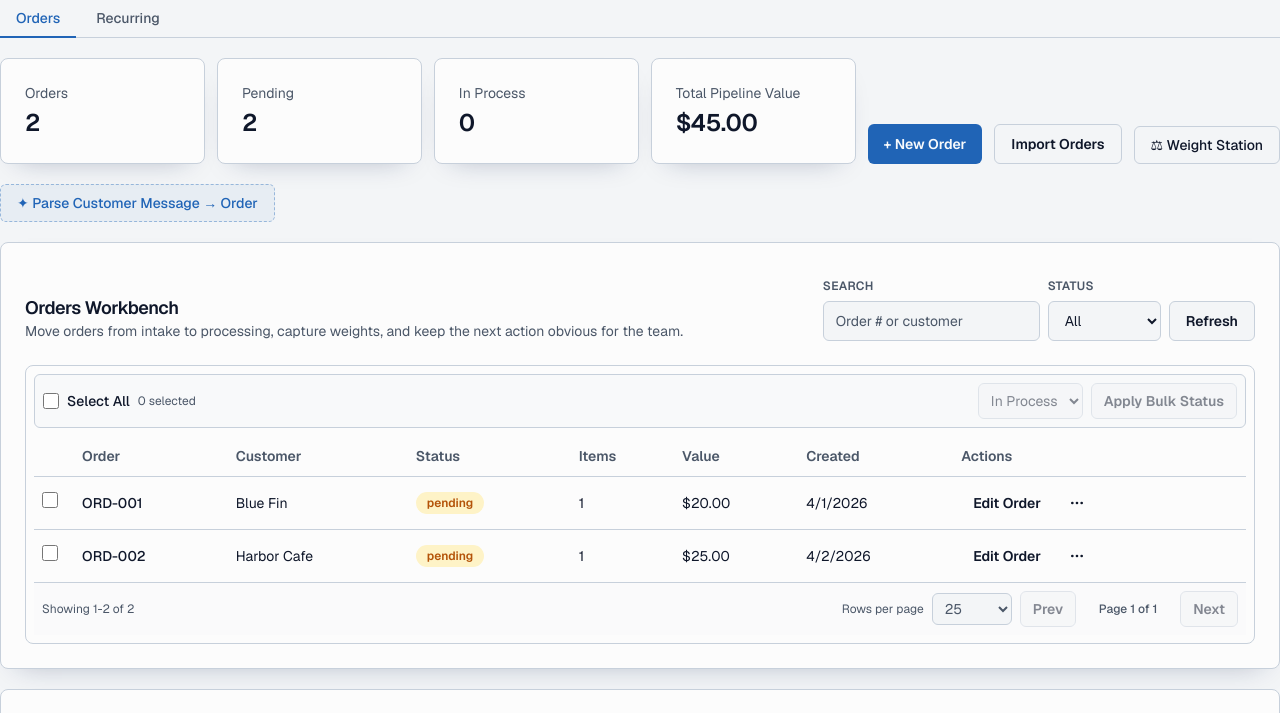
Test: OrdersPage › bulk-updates selected order statuses from the workbench
The image size is (1280, 713).
expect the text "ORD-001" is shown: met, box [82,494,142,512]
Click the checkbox named "Select all visible orders": (51, 401) [43,393,59,409]
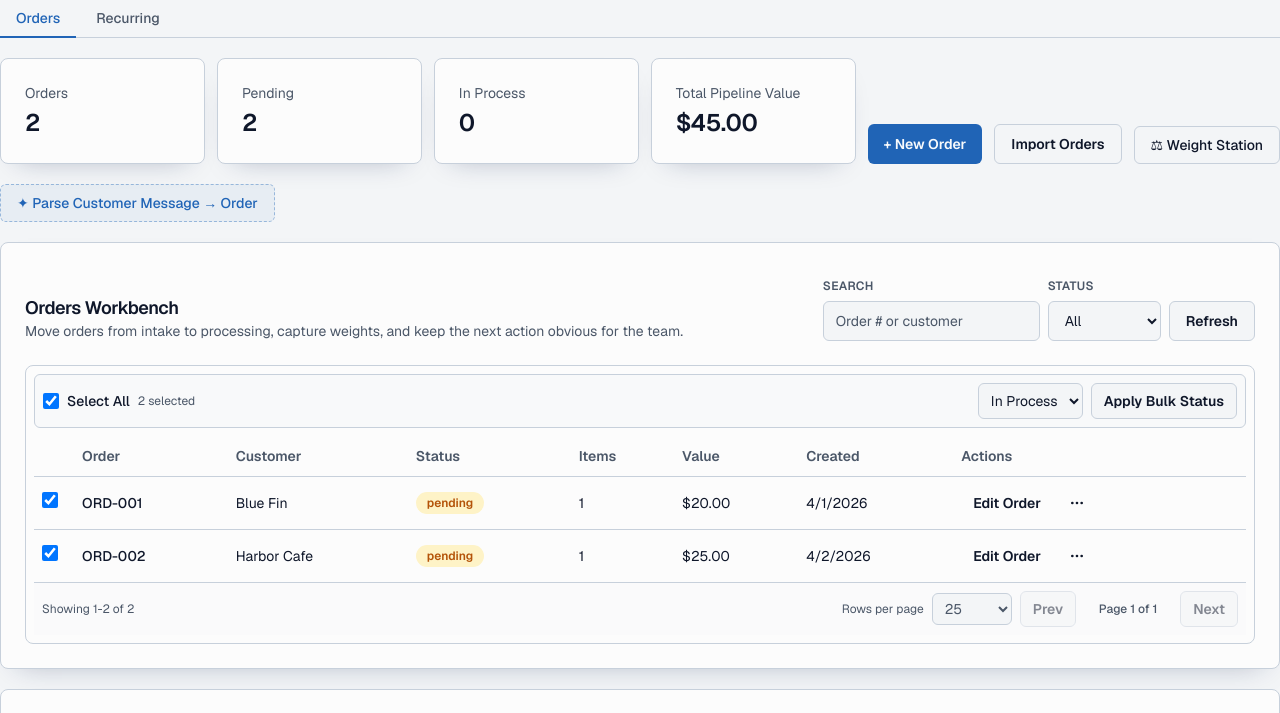
Select "In Process" in the dropdown named "Bulk status": (1030, 401) [978,383,1083,419]
Click the button "Apply Bulk Status": (1164, 401) [1091,383,1237,419]
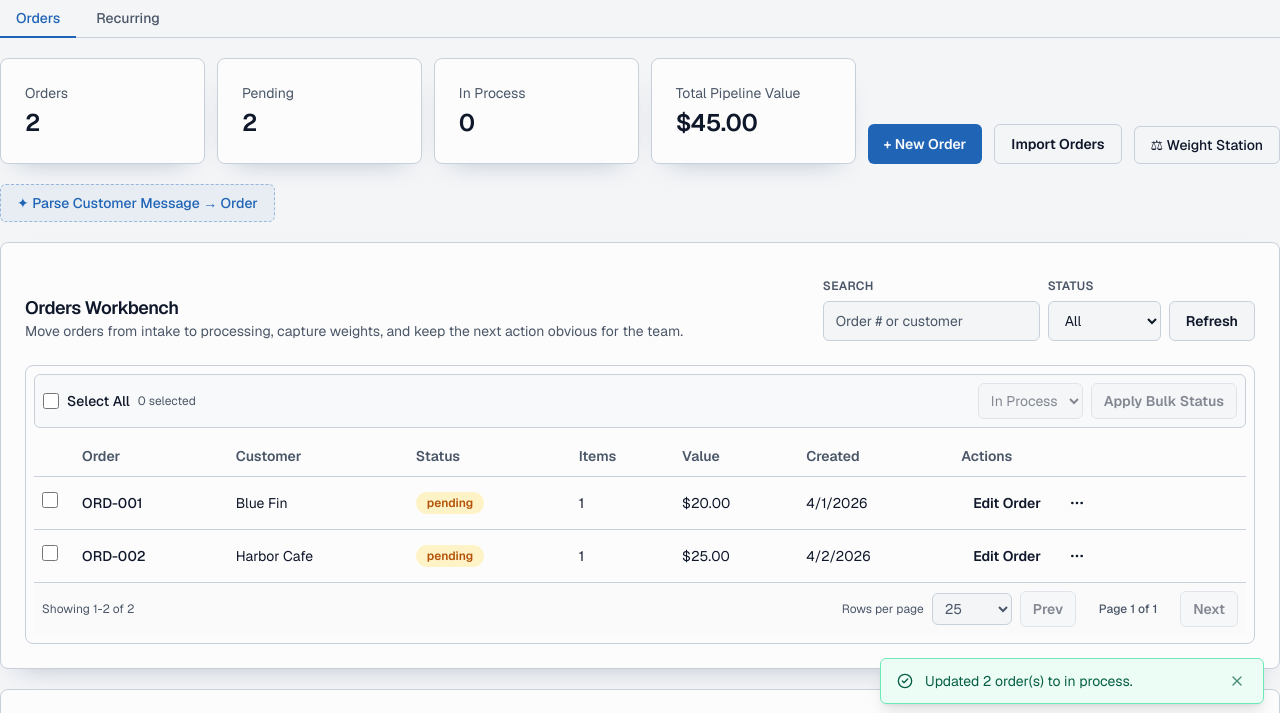
expect the text "Updated 2 order(s) to in process." is shown: met, box [925,672,1132,690]
